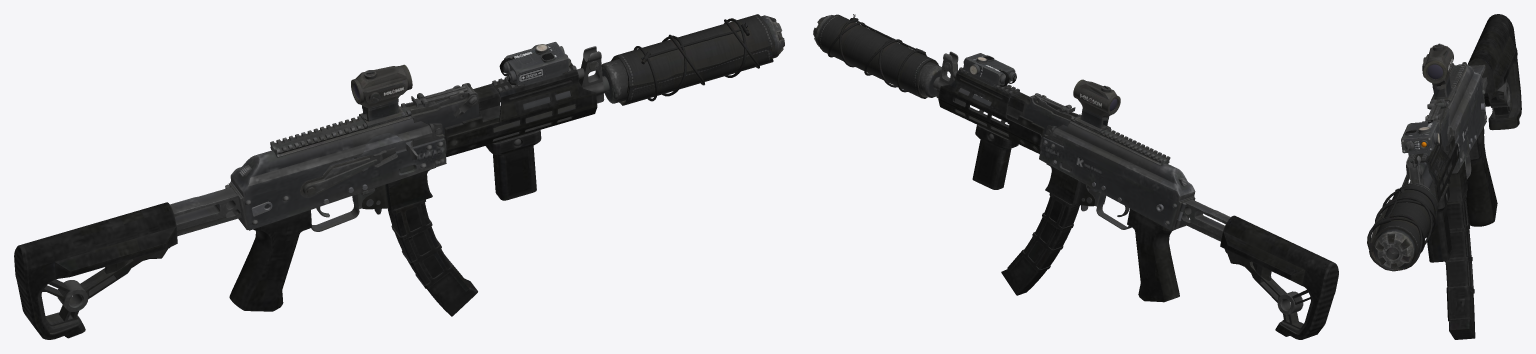
Rendered from saiga9.glb.
The picture shows the model from 3 angles, left to right: view 1: azimuth 30°, elevation 25°; view 2: azimuth 150°, elevation 25°; view 3: azimuth 270°, elevation 25°; orthographic projection. The views are drawn at different scales.
Parts seen in each view (by area): view 1: Cylinder003_low, Object009_low, Object015_low, Box001_low, Cylinder002_low, Cylinder001_low, Box026_low, Box032_low, Object003_low, Plane008_low, Object008_low, Box003_low (+10 smaller); view 2: Cylinder003_low, Object009_low, Box001_low, Cylinder002_low, Object015_low, Box026_low, Cylinder001_low, Box032_low, Object008_low, Object003_low, Plane008_low, Cylinder018_low (+7 smaller); view 3: Box026_low, Cylinder003_low, Object009_low, Cylinder001_low, Object022_low, Cylinder002_low, Object015_low, Box032_low, Donut003_low, Box001_low, Cylinder018_low, Box027_low (+10 smaller).
Boxes of the visible parts, x1=… form: Cylinder003_low: x1=14, y1=202, x2=177, y2=339; Object009_low: x1=611, y1=14, x2=774, y2=105; Object015_low: x1=444, y1=63, x2=597, y2=157; Box001_low: x1=230, y1=138, x2=446, y2=230; Cylinder002_low: x1=230, y1=118, x2=432, y2=198; Cylinder001_low: x1=229, y1=210, x2=311, y2=311; Box026_low: x1=387, y1=199, x2=477, y2=316; Box032_low: x1=486, y1=130, x2=541, y2=200; Object003_low: x1=405, y1=83, x2=479, y2=136; Plane008_low: x1=170, y1=187, x2=241, y2=236; Object008_low: x1=42, y1=247, x2=170, y2=326; Box003_low: x1=270, y1=103, x2=411, y2=157; Cylinder003_low: x1=1220, y1=215, x2=1338, y2=339; Object009_low: x1=818, y1=14, x2=938, y2=98; Box001_low: x1=1039, y1=137, x2=1194, y2=230; Cylinder002_low: x1=1052, y1=123, x2=1195, y2=202; Object015_low: x1=938, y1=70, x2=1042, y2=153; Box026_low: x1=1001, y1=193, x2=1079, y2=295; Cylinder001_low: x1=1127, y1=208, x2=1179, y2=302; Box032_low: x1=972, y1=124, x2=1018, y2=189; Object008_low: x1=1224, y1=249, x2=1310, y2=329; Object003_low: x1=1022, y1=93, x2=1078, y2=135; Plane008_low: x1=1180, y1=199, x2=1230, y2=241; Cylinder018_low: x1=1073, y1=79, x2=1120, y2=117; Box026_low: x1=1445, y1=193, x2=1475, y2=339; Cylinder003_low: x1=1467, y1=14, x2=1521, y2=130; Object009_low: x1=1369, y1=183, x2=1438, y2=271; Cylinder001_low: x1=1466, y1=127, x2=1497, y2=226; Object022_low: x1=1373, y1=183, x2=1429, y2=270; Cylinder002_low: x1=1448, y1=64, x2=1482, y2=136; Object015_low: x1=1401, y1=140, x2=1459, y2=202; Box032_low: x1=1427, y1=183, x2=1452, y2=262; Donut003_low: x1=1367, y1=187, x2=1436, y2=269; Box001_low: x1=1439, y1=86, x2=1486, y2=173; Cylinder018_low: x1=1422, y1=45, x2=1453, y2=86; Box027_low: x1=1401, y1=121, x2=1439, y2=153.
Bounding box in the file's own units: 0.9386 × 0.3482 × 0.192.
Materials: 2 (2 with a texture image).
